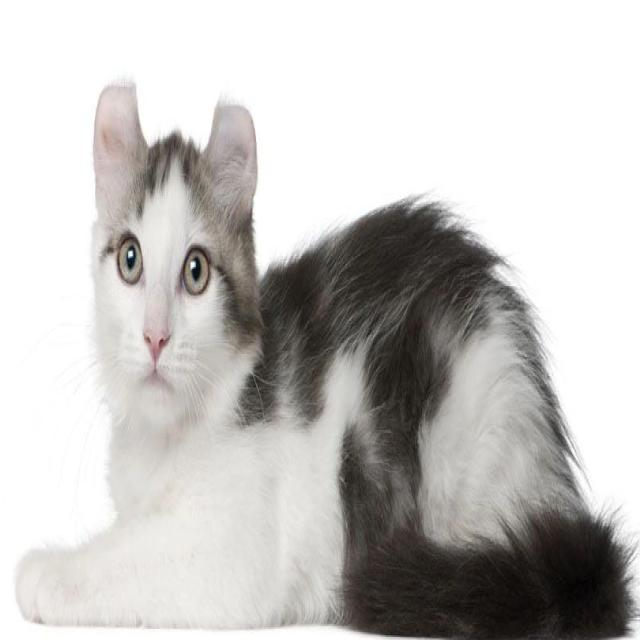American Curl: (10, 74, 640, 640)
